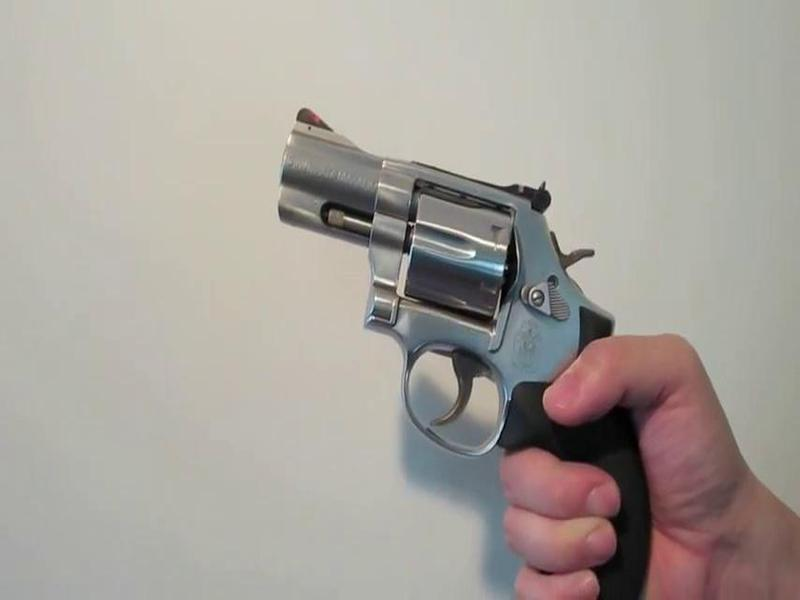Revolver: (254, 100, 683, 584)
